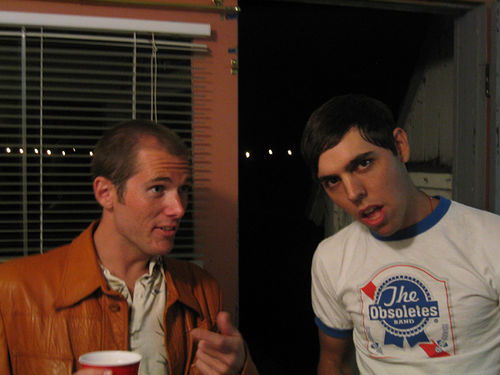without_mask: (305, 111, 433, 245), (93, 130, 200, 257)
